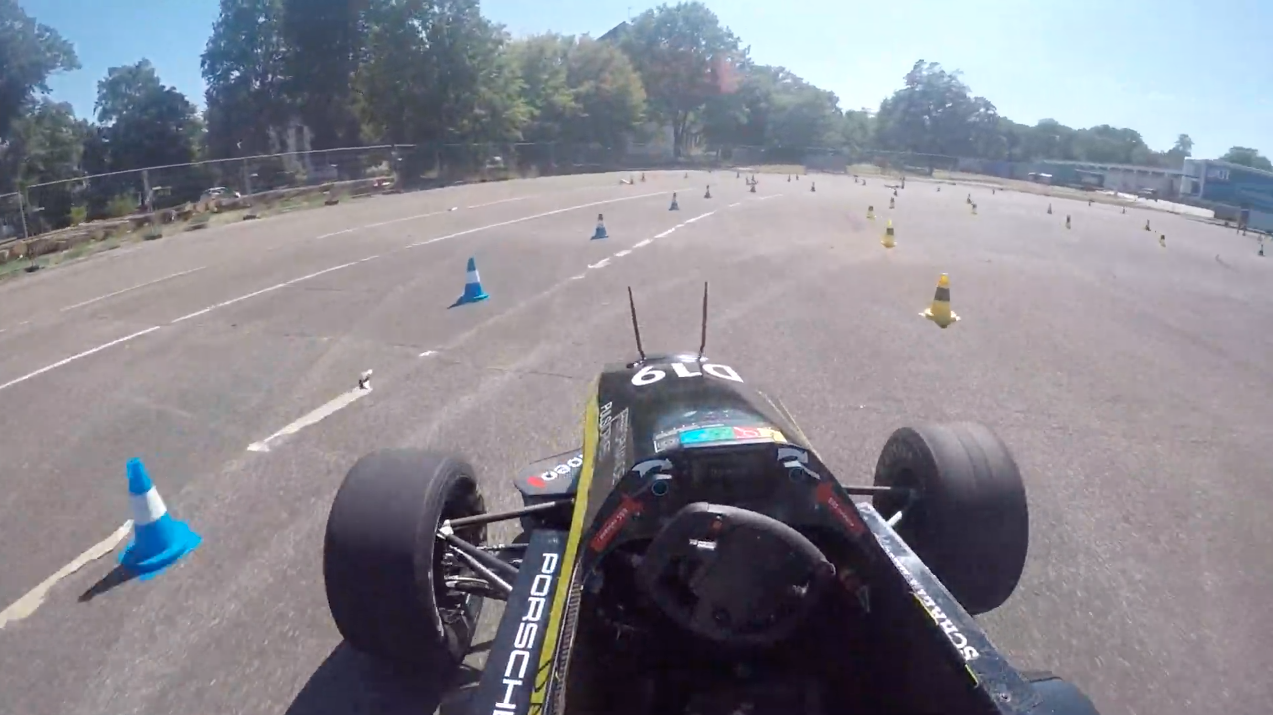lcone: (109, 453, 207, 584), (455, 252, 494, 305), (590, 212, 612, 241)
rcone: (918, 269, 964, 327), (878, 217, 901, 249)
